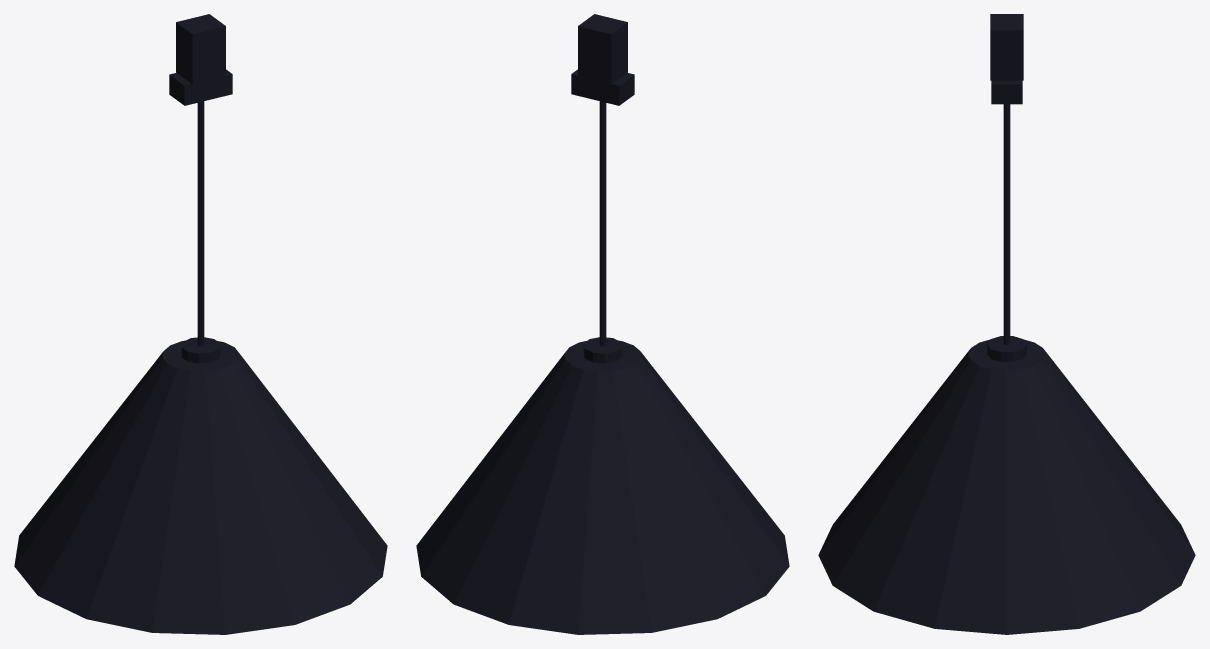
Rendered from SM_Build_Schienenleuchte_Pendel_Kegel.fbx.
The picture shows the model from 3 angles, left to right: view 1: azimuth 30°, elevation 25°; view 2: azimuth 150°, elevation 25°; view 3: azimuth 270°, elevation 25°; orthographic projection.
Parts seen in each view (by area): view 1: Schienenleuchte_Pendel_Kegel; view 2: Schienenleuchte_Pendel_Kegel; view 3: Schienenleuchte_Pendel_Kegel.
Part boxes in pixels (bbox=[...]): Schienenleuchte_Pendel_Kegel: bbox=[14, 14, 387, 634]; Schienenleuchte_Pendel_Kegel: bbox=[416, 14, 789, 634]; Schienenleuchte_Pendel_Kegel: bbox=[818, 14, 1195, 634].
Bounding box in the file's own units: 0.34 × 0.53 × 0.34.
